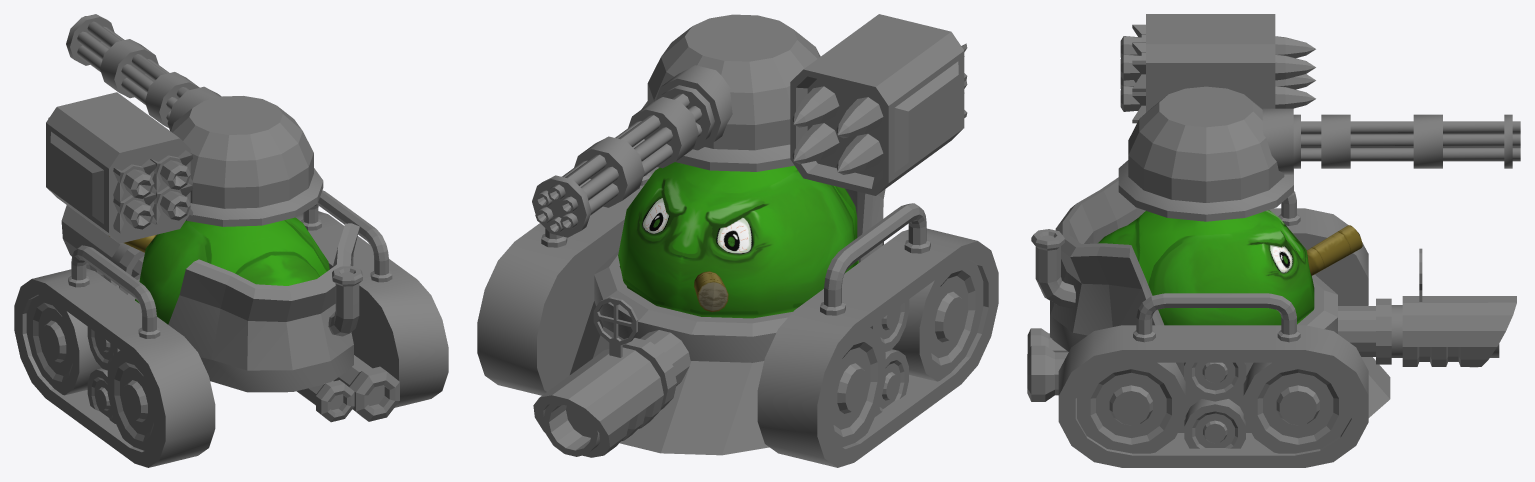
The model's file is Tank Blob.obj.
The picture shows the model from 3 angles, left to right: view 1: azimuth 30°, elevation 25°; view 2: azimuth 150°, elevation 25°; view 3: azimuth 270°, elevation 25°; orthographic projection. The views are drawn at different scales.
Parts seen in each view (by area): view 1: polySurface242; view 2: polySurface242; view 3: polySurface242.
Boxes of the visible parts, left/top/right/bottom form: polySurface242: left=14, top=14, right=448, bottom=467; polySurface242: left=477, top=14, right=998, bottom=467; polySurface242: left=1027, top=14, right=1520, bottom=467.
Size of the model in its own units: 4.93 by 4.71 by 6.77.
Materials: 2 (1 with a texture image).
